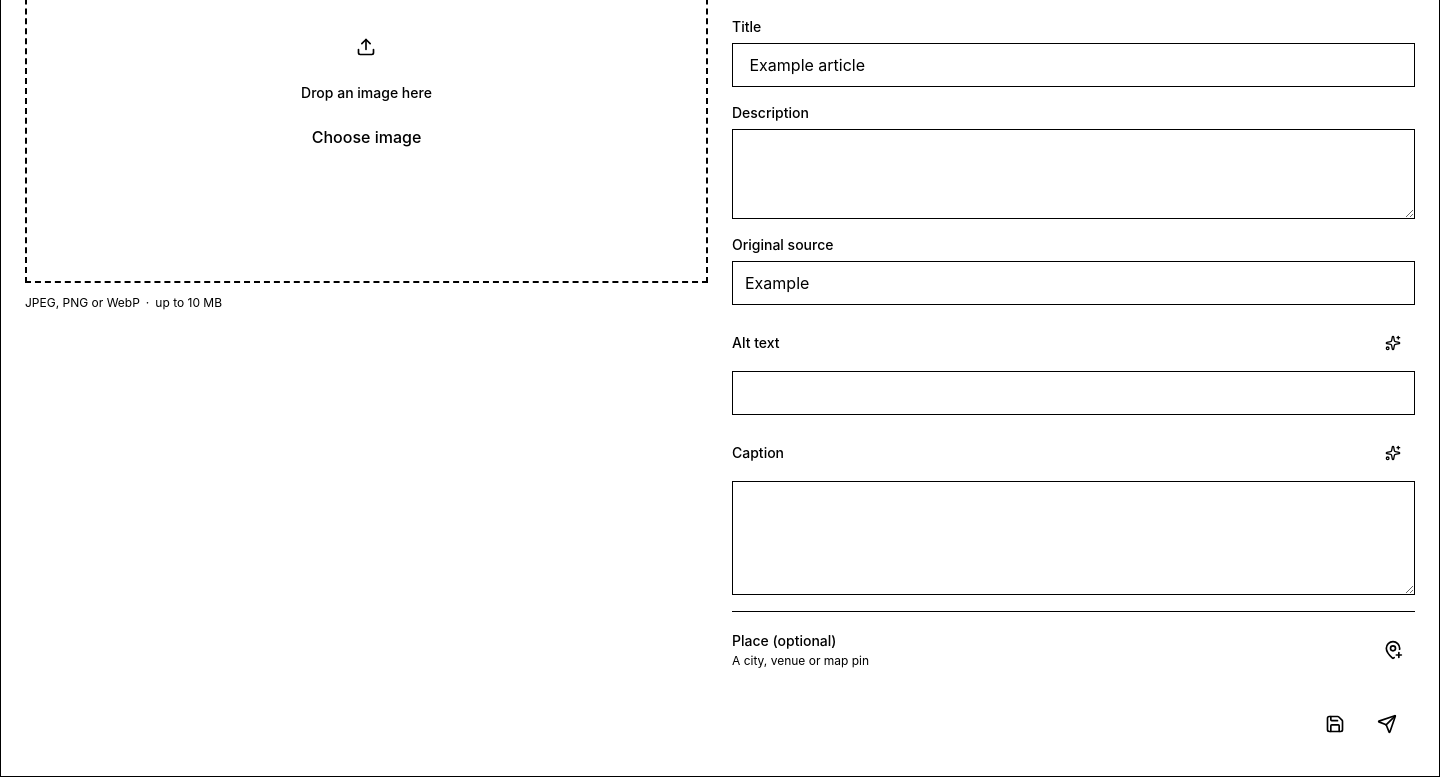
Test: PostForm AI assistance › Given a link post with only a link title, should enable the caption button and send the link title
(page scrolled)
Click the button named "Write the caption with AI" at coordinates (1393, 453), box [1371, 431, 1415, 475]
(page scrolled)
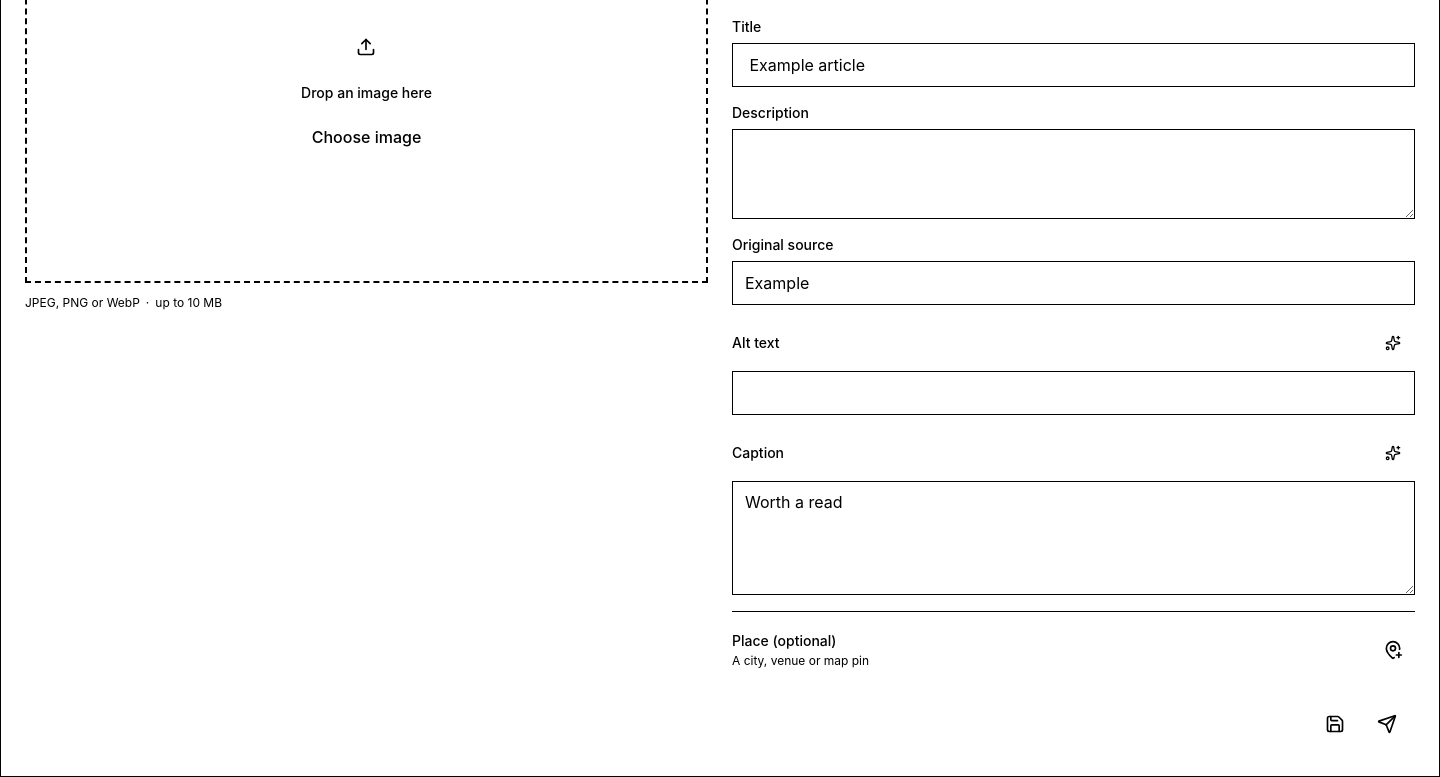
Check: the text box showing "Worth a read" is shown, box [732, 481, 1415, 595]
